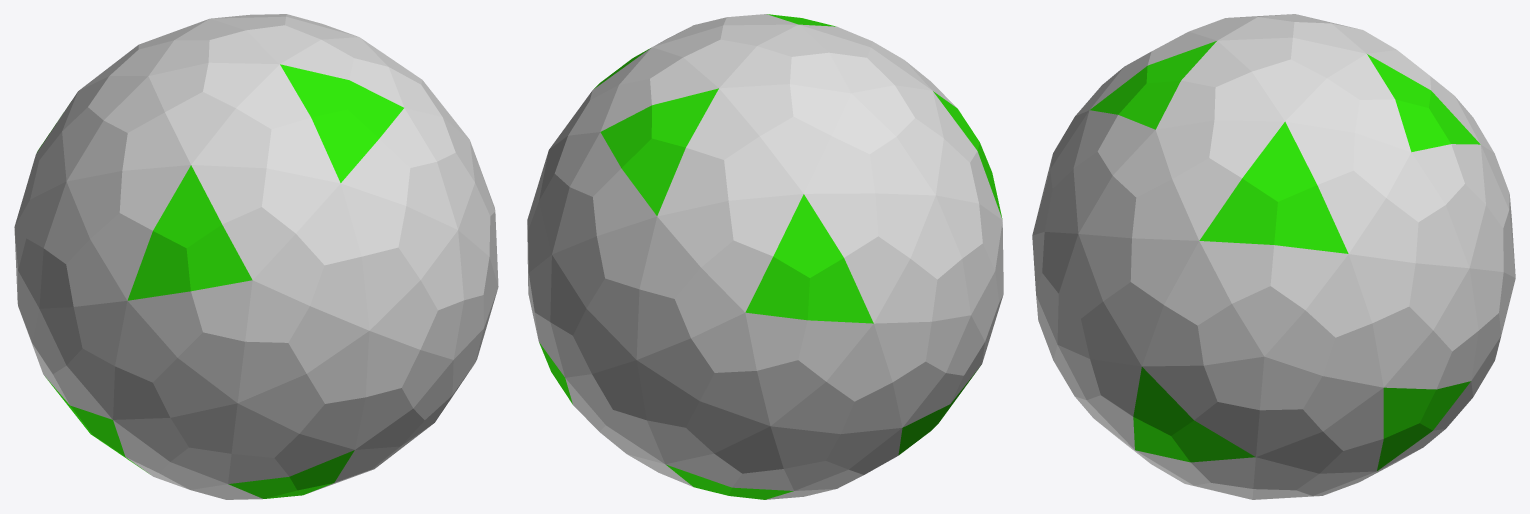
The model's file is green.glb.
The picture shows the model from 3 angles, left to right: view 1: azimuth 30°, elevation 25°; view 2: azimuth 150°, elevation 25°; view 3: azimuth 270°, elevation 25°; orthographic projection.
Parts seen in each view (by area): view 1: Greem; view 2: Greem; view 3: Greem.
Boxes of the visible parts, x1,y1,x2,y2 form: Greem: (14,14,498,499); Greem: (527,14,1003,499); Greem: (1032,14,1515,499).
Size of the model in its own units: 1.86 by 1.84 by 1.84.
